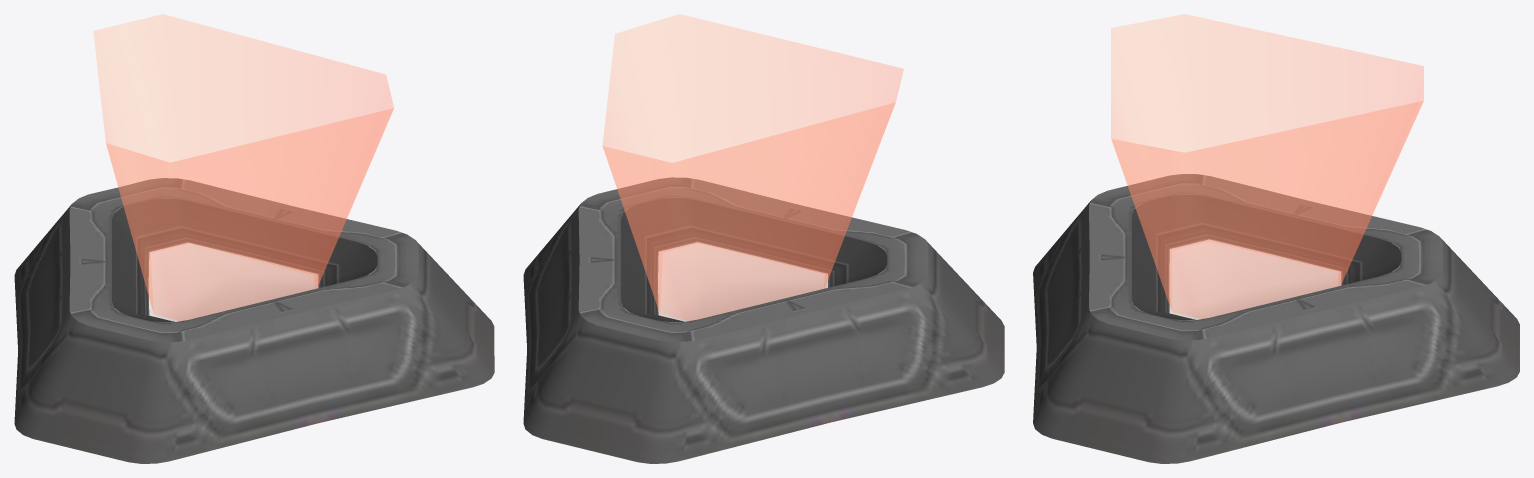
The model's file is Prop_ItemHolder.glb.
The picture shows the model from 3 angles, left to right: view 1: azimuth 30°, elevation 25°; view 2: azimuth 150°, elevation 25°; view 3: azimuth 270°, elevation 25°; orthographic projection.
Parts seen in each view (by area): view 1: Prop_ItemHolder; view 2: Prop_ItemHolder; view 3: Prop_ItemHolder.
Boxes of the visible parts, x1,y1,x2,y2 form: Prop_ItemHolder: (14, 14, 494, 463); Prop_ItemHolder: (523, 14, 1004, 463); Prop_ItemHolder: (1033, 14, 1519, 463).
Size of the model in its own units: 0.8187 by 0.4358 by 0.7267.
Materials: 3 (2 with a texture image).
